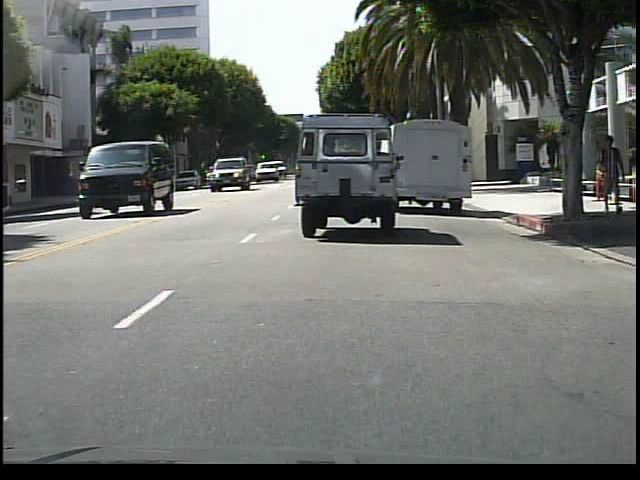person: (596, 134, 623, 215)
